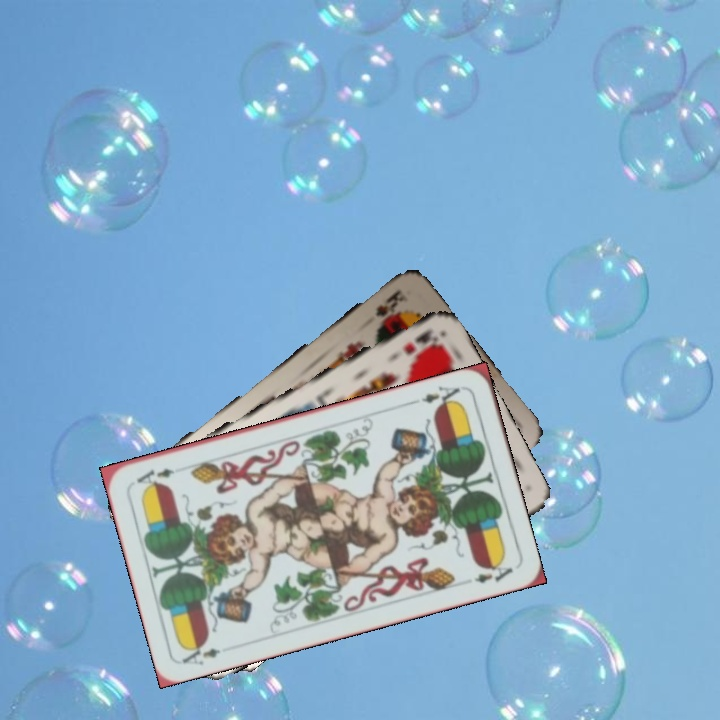EA: (408, 381, 463, 411), (178, 638, 223, 668)
HK: (399, 325, 441, 358)
SK: (371, 286, 408, 320)
